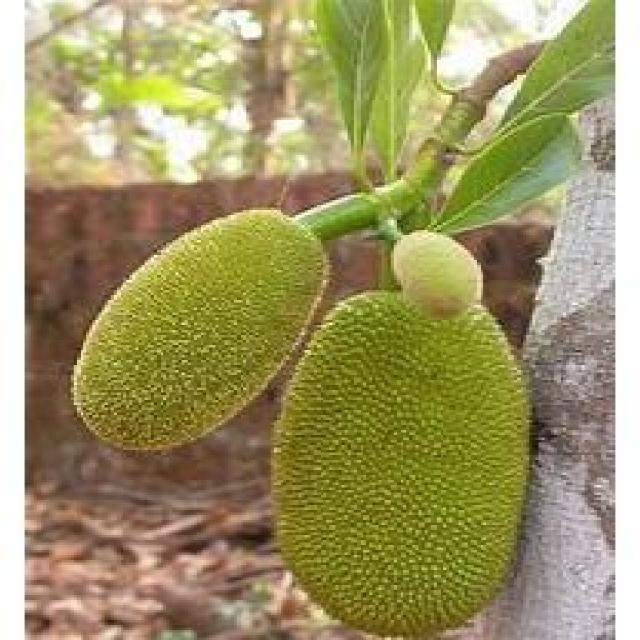Fruit: (243, 267, 560, 640), (58, 188, 351, 472)
